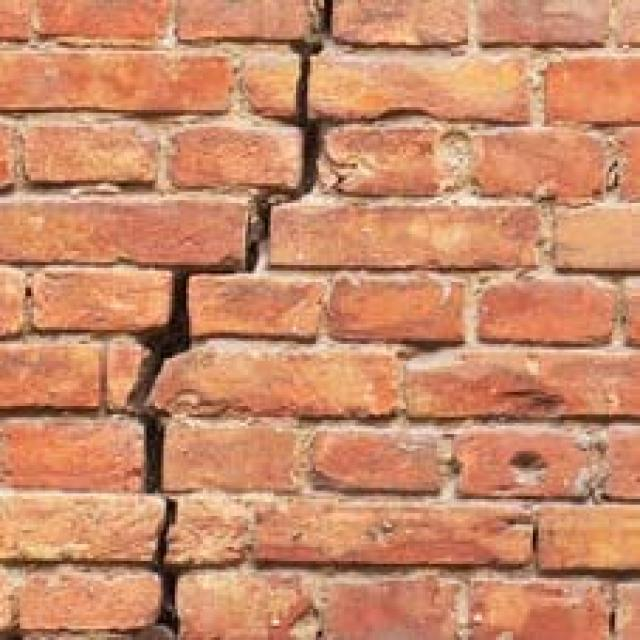Crack: (83, 0, 383, 640)
